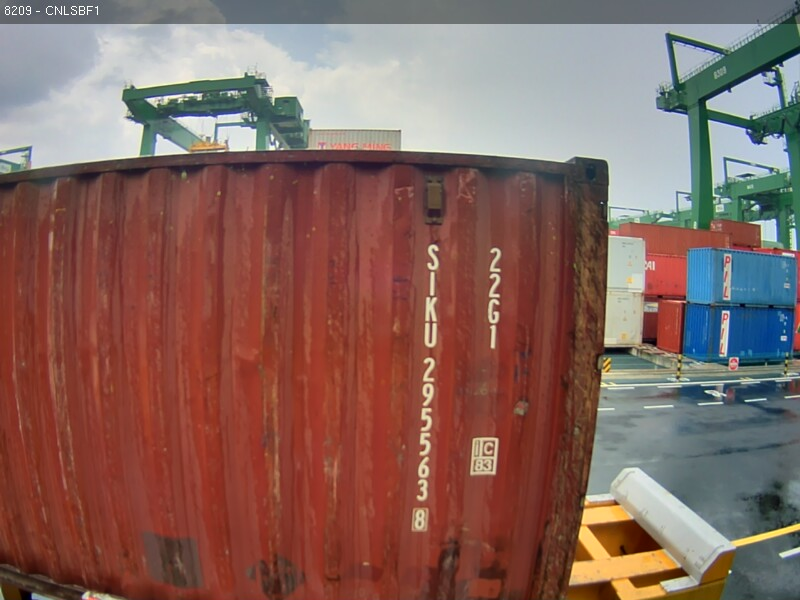container_no_door: (195, 141, 614, 543)
